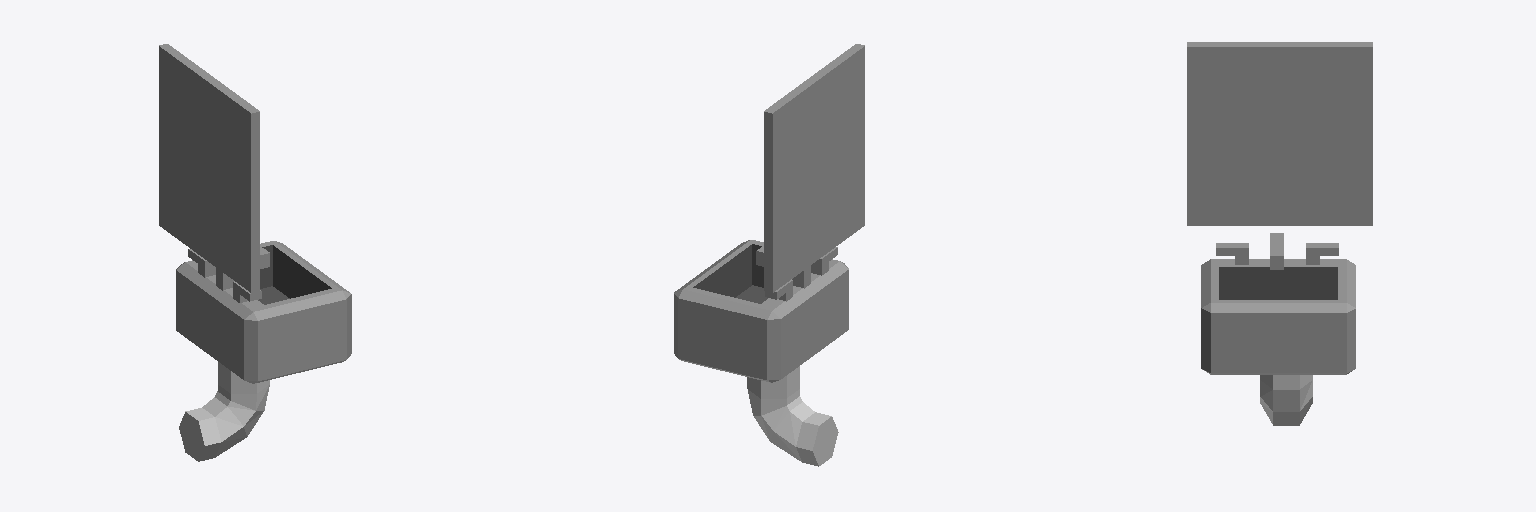
File: Sink.obj
3 renders of one model, left to right at view 1: azimuth 30°, elevation 25°; view 2: azimuth 150°, elevation 25°; view 3: azimuth 270°, elevation 25°, orthographic.
Parts seen in each view (by area): view 1: Cube.195_Cube.267, Cube.191_Cube.263, Cylinder.050; view 2: Cube.195_Cube.267, Cube.191_Cube.263, Cylinder.050; view 3: Cube.195_Cube.267, Cube.191_Cube.263, Cylinder.050, Cube.194_Cube.266, Cube.193_Cube.265.
Part boxes in pixels (bbox=[...]): Cube.195_Cube.267: bbox=[159, 44, 259, 292]; Cube.191_Cube.263: bbox=[176, 241, 351, 383]; Cylinder.050: bbox=[179, 362, 269, 461]; Cube.195_Cube.267: bbox=[764, 44, 864, 292]; Cube.191_Cube.263: bbox=[674, 240, 848, 382]; Cylinder.050: bbox=[747, 366, 838, 466]; Cube.195_Cube.267: bbox=[1187, 42, 1372, 225]; Cube.191_Cube.263: bbox=[1201, 259, 1355, 374]; Cylinder.050: bbox=[1260, 375, 1312, 425]; Cube.194_Cube.266: bbox=[1306, 243, 1338, 264]; Cube.193_Cube.265: bbox=[1216, 243, 1248, 264].
Bounding box in the file's own units: 1.42 × 4.2 × 1.87.